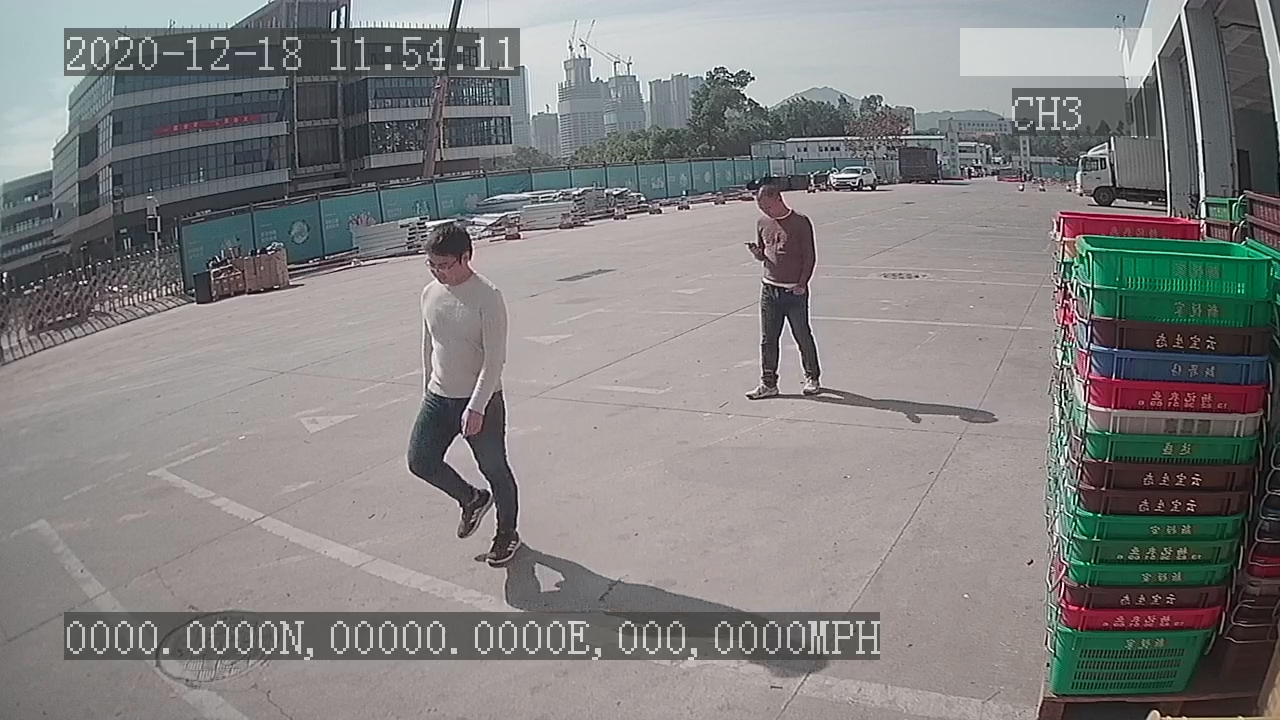person: (393, 210, 533, 574), (742, 179, 829, 401)
